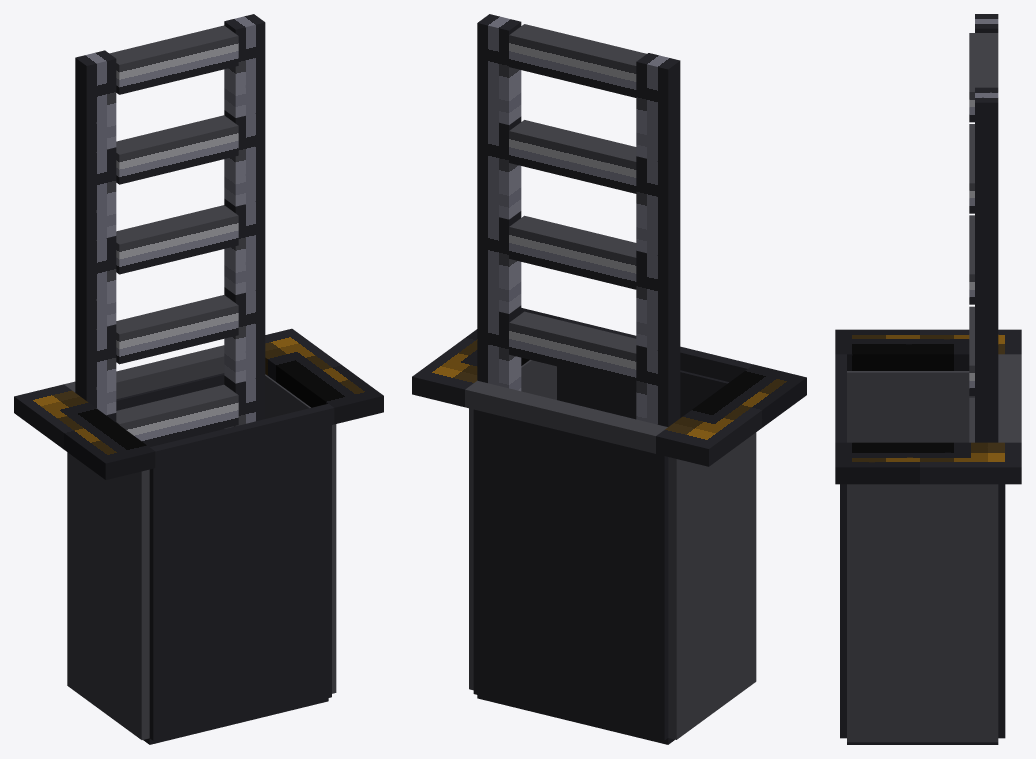
Rendered from CMU3DLadderThroughDown.glb.
3 views of the same model, side by side, from view 1: azimuth 30°, elevation 25°; view 2: azimuth 150°, elevation 25°; view 3: azimuth 270°, elevation 25° (orthographic). The views are drawn at different scales.
Visible parts, largest first — view 1: recess south wall, recess west wall, source left hazard rim, source right hazard rim, physical rung 7, physical rung 4, physical rung 5, physical rung 6, physical rung 3, metal near rim, left rail segment 7, left rail segment 6 (+11 smaller); view 2: recess north wall, recess west wall, source left hazard rim, physical rung 7, physical rung 4, physical rung 5, physical rung 6, metal rear rim, left rail segment 7, left rail segment 6, left rail segment 5, right rail segment 7 (+9 smaller); view 3: recess east wall, recess west wall, source right hazard rim, source left hazard rim, right rail segment 7, right rail segment 6, right rail segment 5, metal rear rim, recess north wall, physical rung 7, recess south wall, right rail segment 4 (+6 smaller).
Boxes of the visible parts, <box> form: recess south wall: <box>149,425,331,740</box>; recess west wall: <box>67,452,149,739</box>; source left hazard rim: <box>14,384,155,479</box>; source right hazard rim: <box>265,328,383,424</box>; physical rung 7: <box>109,25,238,94</box>; physical rung 4: <box>116,295,238,364</box>; physical rung 5: <box>116,205,238,274</box>; physical rung 6: <box>116,115,238,184</box>; physical rung 3: <box>116,384,238,446</box>; metal near rim: <box>150,403,334,467</box>; left rail segment 7: <box>75,50,116,154</box>; left rail segment 6: <box>75,146,116,242</box>; recess north wall: <box>473,409,668,740</box>; recess west wall: <box>668,432,756,739</box>; source left hazard rim: <box>656,364,806,466</box>; physical rung 7: <box>509,24,646,97</box>; physical rung 4: <box>509,311,636,385</box>; physical rung 5: <box>509,215,636,289</box>; physical rung 6: <box>509,120,636,193</box>; metal rear rim: <box>465,380,667,453</box>; left rail segment 7: <box>636,53,680,163</box>; left rail segment 6: <box>636,155,680,258</box>; left rail segment 5: <box>636,250,680,352</box>; right rail segment 7: <box>477,14,521,124</box>; recess east wall: <box>847,484,998,742</box>; recess west wall: <box>847,371,974,442</box>; source right hazard rim: <box>835,442,1021,484</box>; source left hazard rim: <box>835,329,1021,370</box>; right rail segment 7: <box>975,87,998,192</box>; right rail segment 6: <box>975,192,998,282</box>; right rail segment 5: <box>975,282,998,371</box>; metal rear rim: <box>998,354,1021,442</box>; recess north wall: <box>998,484,1005,738</box>; physical rung 7: <box>969,33,998,122</box>; recess south wall: <box>840,484,846,738</box>; right rail segment 4: <box>975,372,998,442</box>.
Size of the model in its own units: 0.875 by 1.9 by 0.5.
Materials: 7 (5 with a texture image).
